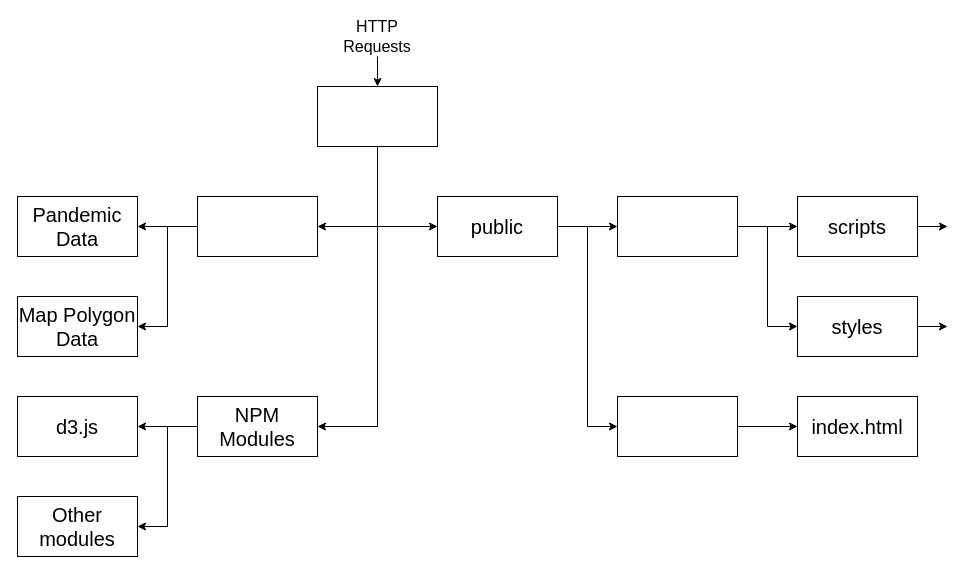
Image size: 973x574. Some labels were removed from this diagram. The shapes that lost their labels are listed below. From the top down, each one's box as (x1, y1, x2, y2) in pixels, then its label:
(316, 86, 438, 146): Application Entry Point (Port 8080)
(196, 196, 318, 256): data
(616, 196, 738, 256): static
(616, 396, 738, 456): views
